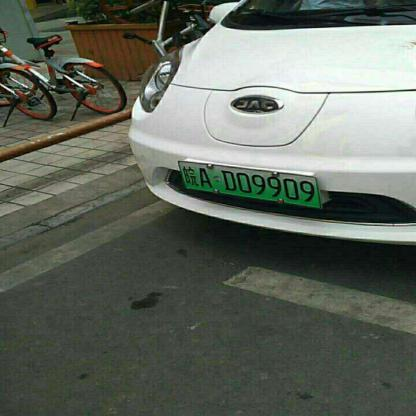lp: (184, 161, 321, 208)
